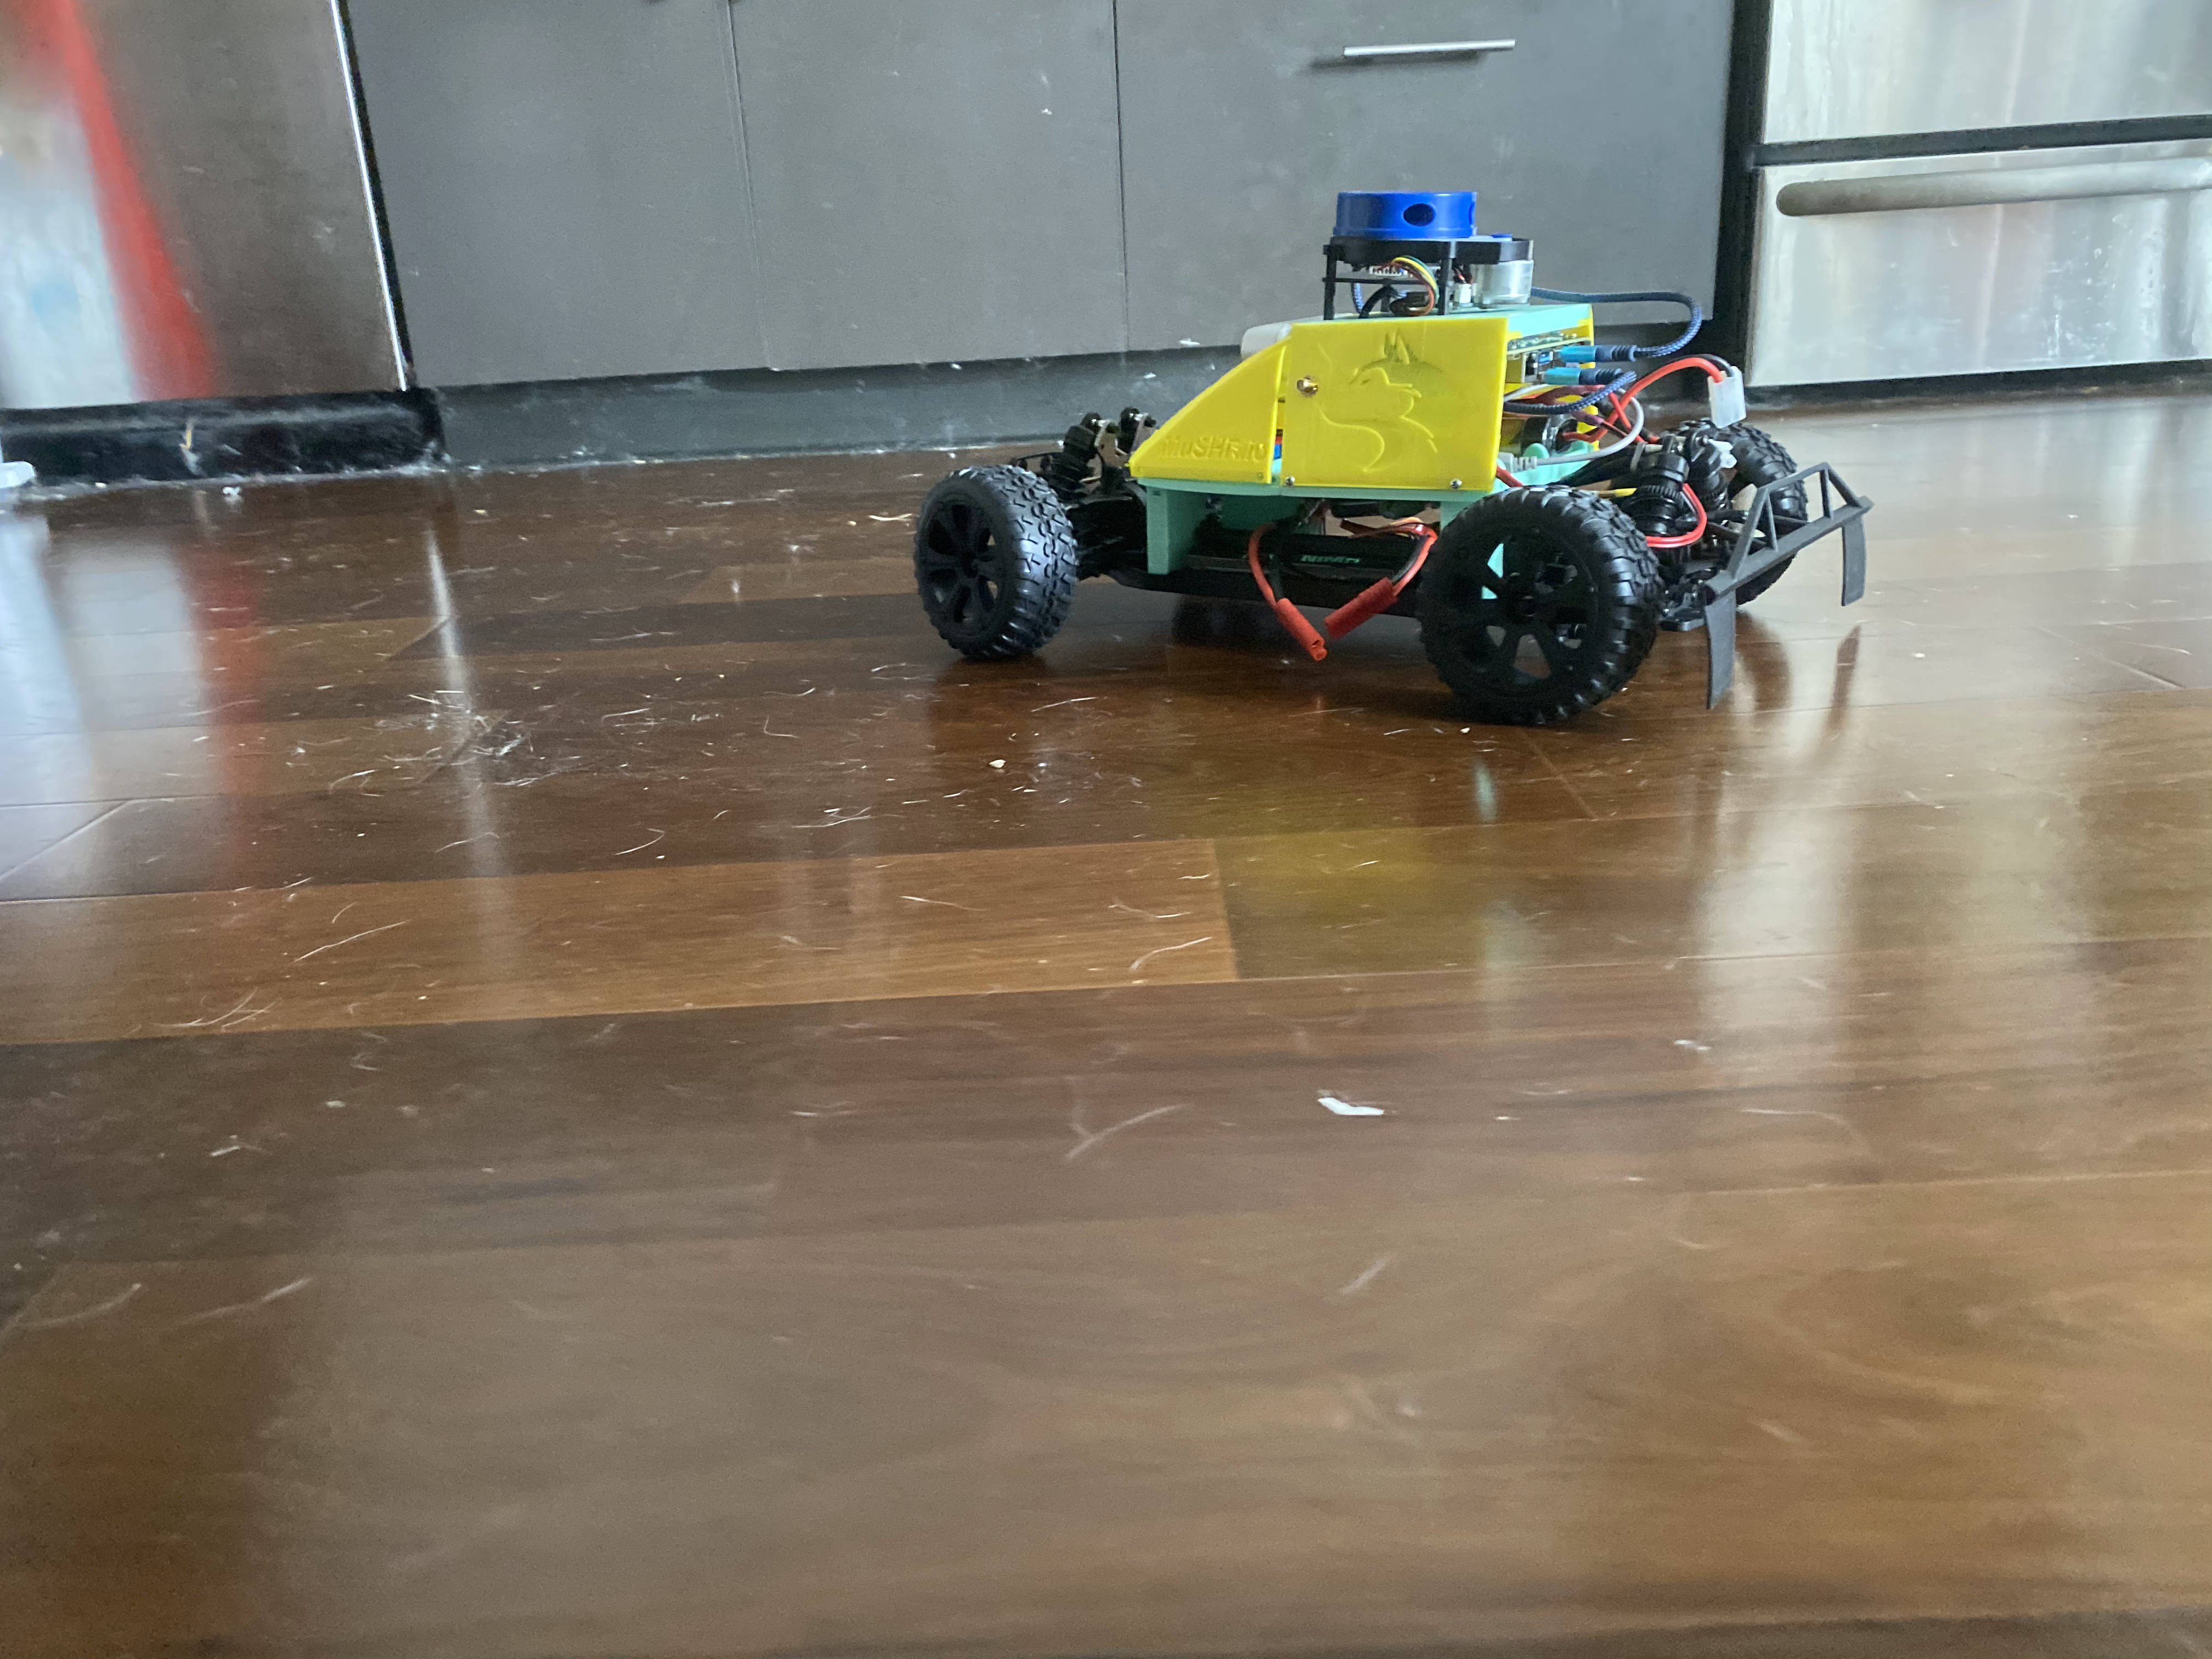mushr_car: (887, 169, 1888, 737)
